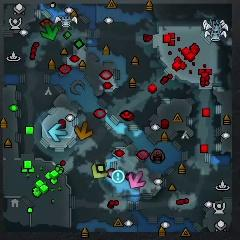x1: (128, 171, 145, 188)
x2: (92, 162, 108, 178)
x3: (48, 124, 67, 142)
x4: (41, 22, 58, 40)
x5: (74, 122, 93, 142)
